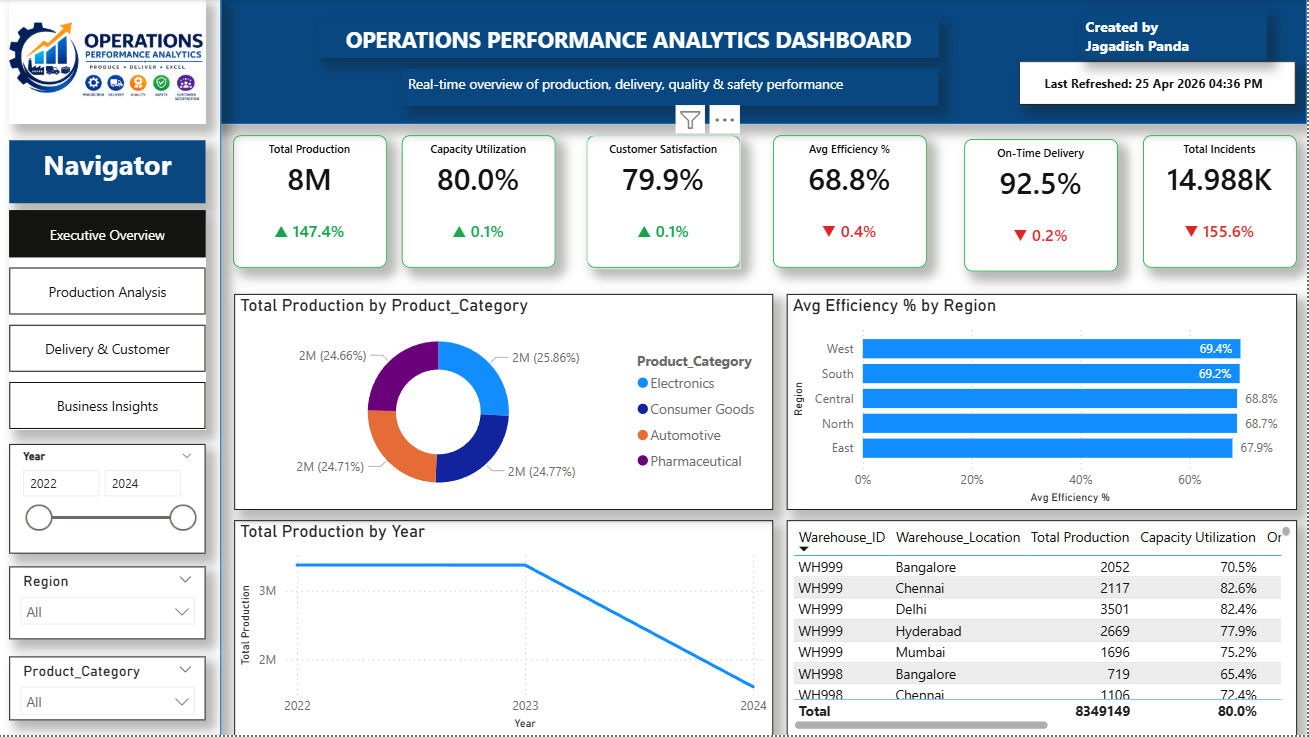

Layout of this report page (visuals, bound fields, positions):
{"tool":"powerbi","page":{"name":"Executive Overview","canvas":[1280,720],"ordinal":0},"visuals":[{"type":"shape","box":[0,0,1280.3,122.2],"z":0},{"type":"shape","box":[0,0,218.4,720.9],"z":1000},{"type":"image","box":[11.3,0,192,122.4],"z":2000},{"type":"textbox","box":[313,20.1,607.5,38.5],"z":3000},{"type":"cardVisual","fields":{"Data":["Sheet1.Last Refreshed"]},"box":[999,61.7,270.3,42.5],"z":5000},{"type":"textbox","box":[396.2,68.6,523.7,35.6],"z":6000},{"type":"cardVisual","fields":{"Data":["Sheet1.Capacity Utilization"]},"box":[395.3,133.6,150.6,129.9],"z":7000},{"type":"cardVisual","fields":{"Data":["Sheet1.On-Time Delivery %"]},"box":[944.9,137.4,150.6,129.9],"z":8000},{"type":"pageNavigator","box":[10.8,206.1,192.2,215.4],"z":9000},{"type":"textbox","box":[10.8,137.9,192.2,62],"z":10000},{"type":"cardVisual","fields":{"Data":["Sheet1.Total Production"]},"box":[229.6,133.6,150.6,129.9],"z":11000},{"type":"cardVisual","fields":{"Data":["Sheet1.Avg Efficiency %"]},"box":[758.6,133.6,150.6,129.9],"z":12000},{"type":"cardVisual","fields":{"Data":["Sheet1.Customer Satisfaction"]},"box":[576,133.6,150.6,129.9],"z":13000},{"type":"cardVisual","fields":{"Data":["Sheet1.Total Incidents"]},"box":[1120,133.6,150.6,129.9],"z":14000},{"type":"lineChart","fields":{"Category":["Sheet1.Production_Date.Variation.Date Hierarchy.Year"],"Y":["Sheet1.Total Production"]},"box":[231.5,510.1,527.1,210.8],"z":15000},{"type":"barChart","fields":{"Category":["Sheet1.Region"],"Y":["Sheet1.Avg Efficiency %"]},"box":[771.8,288,498.8,210.8],"z":16000},{"type":"donutChart","fields":{"Category":["Sheet1.Product_Category"],"Y":["Sheet1.Total Production"]},"box":[231.5,288,527.1,210.8],"z":17000},{"type":"slicer","fields":{"Values":["Sheet1.Production_Date.Variation.Date Hierarchy.Year"]},"box":[11.3,434.8,192,107.3],"z":18000},{"type":"slicer","fields":{"Values":["Sheet1.Region"]},"box":[11.3,555.3,192,71.5],"z":19000},{"type":"slicer","fields":{"Values":["Sheet1.Product_Category"]},"box":[11.3,643.8,192,62.1],"z":20000},{"type":"tableEx","fields":{"Values":["Sheet1.Warehouse_ID","Sheet1.Warehouse_Location","Sheet1.Total Production","Sheet1.Capacity Utilization","Sheet1.On-Time Delivery","Sheet1.Customer Satisfaction","Sheet1.Total Incidents","Sheet1.Avg Efficiency %"]},"box":[771.8,510.1,498.8,210.8],"z":21000},{"type":"textbox","box":[1059.4,11.7,182.4,46.9],"z":21001}]}

Visuals, with their boxes on the page's 1280x720 design canvas (x1, y1, x2, y2). These are canvas units, not pixel positions in the 1309x737 screenshot, which may show the page scaled, cropped or inside an application window:
shape: Rect(0, 0, 1280, 122)
shape: Rect(0, 0, 218, 721)
image: Rect(11, 0, 203, 122)
textbox: Rect(313, 20, 920, 59)
cardVisual - Sheet1.Last Refreshed: Rect(999, 62, 1269, 104)
textbox: Rect(396, 69, 920, 104)
cardVisual - Sheet1.Capacity Utilization: Rect(395, 134, 546, 264)
cardVisual - Sheet1.On-Time Delivery %: Rect(945, 137, 1096, 267)
pageNavigator: Rect(11, 206, 203, 422)
textbox: Rect(11, 138, 203, 200)
cardVisual - Sheet1.Total Production: Rect(230, 134, 380, 264)
cardVisual - Sheet1.Avg Efficiency %: Rect(759, 134, 909, 264)
cardVisual - Sheet1.Customer Satisfaction: Rect(576, 134, 727, 264)
cardVisual - Sheet1.Total Incidents: Rect(1120, 134, 1271, 264)
lineChart - Sheet1.Production_Date.Variation.Date Hierarchy.Year x Sheet1.Total Production: Rect(232, 510, 759, 721)
barChart - Sheet1.Region x Sheet1.Avg Efficiency %: Rect(772, 288, 1271, 499)
donutChart - Sheet1.Product_Category x Sheet1.Total Production: Rect(232, 288, 759, 499)
slicer - Sheet1.Production_Date.Variation.Date Hierarchy.Year: Rect(11, 435, 203, 542)
slicer - Sheet1.Region: Rect(11, 555, 203, 627)
slicer - Sheet1.Product_Category: Rect(11, 644, 203, 706)
tableEx - Sheet1.Warehouse_ID x Sheet1.Warehouse_Location: Rect(772, 510, 1271, 721)
textbox: Rect(1059, 12, 1242, 59)
